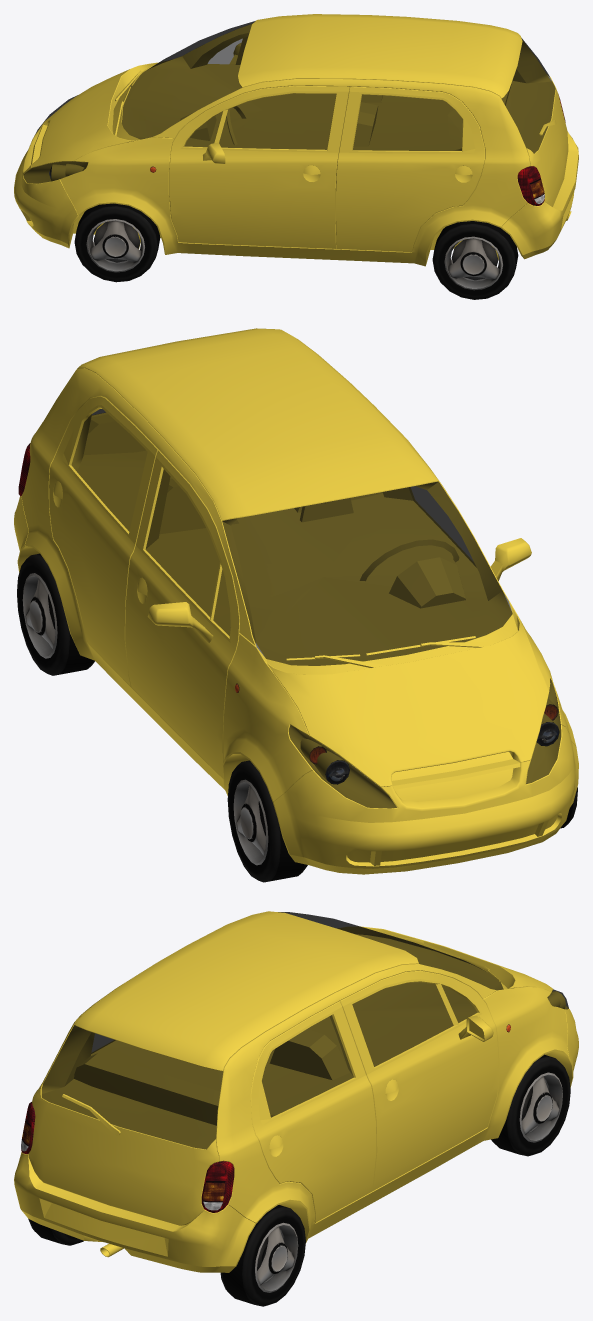
The model's file is traffic_compact.glb.
3 views of the same model, one above another, from view 1: azimuth 30°, elevation 25°; view 2: azimuth 150°, elevation 25°; view 3: azimuth 270°, elevation 25° (orthographic). The views are drawn at different scales.
Visible parts, largest first — view 1: compact_c_body, compact_c_glass, compact_c_wheel_3, compact_c_wheel_1, compact_c_optics; view 2: compact_c_body, compact_c_glass, compact_c_wheel_0, compact_c_wheel_2, compact_c_optics; view 3: compact_c_body, compact_c_glass, compact_c_wheel_2, compact_c_wheel_0, compact_c_optics, compact_c_wheel_3.
Boxes of the visible parts, box(x1,y1,x2,y2) form: compact_c_body: box(14, 14, 578, 266); compact_c_glass: box(23, 21, 555, 183); compact_c_wheel_3: box(432, 221, 518, 299); compact_c_wheel_1: box(74, 203, 160, 282); compact_c_optics: box(49, 94, 565, 205); compact_c_body: box(14, 328, 578, 874); compact_c_glass: box(71, 409, 561, 808); compact_c_wheel_0: box(227, 760, 307, 882); compact_c_wheel_2: box(17, 553, 94, 675); compact_c_optics: box(18, 443, 559, 784); compact_c_body: box(14, 911, 578, 1272); compact_c_glass: box(41, 912, 568, 1149); compact_c_wheel_2: box(220, 1205, 305, 1306); compact_c_wheel_0: box(491, 1054, 570, 1156); compact_c_optics: box(21, 1024, 510, 1212); compact_c_wheel_3: box(28, 1218, 83, 1245).
Size of the model in its own units: 3.07 by 1.32 by 2.65.
Materials: 7 (5 with a texture image).
